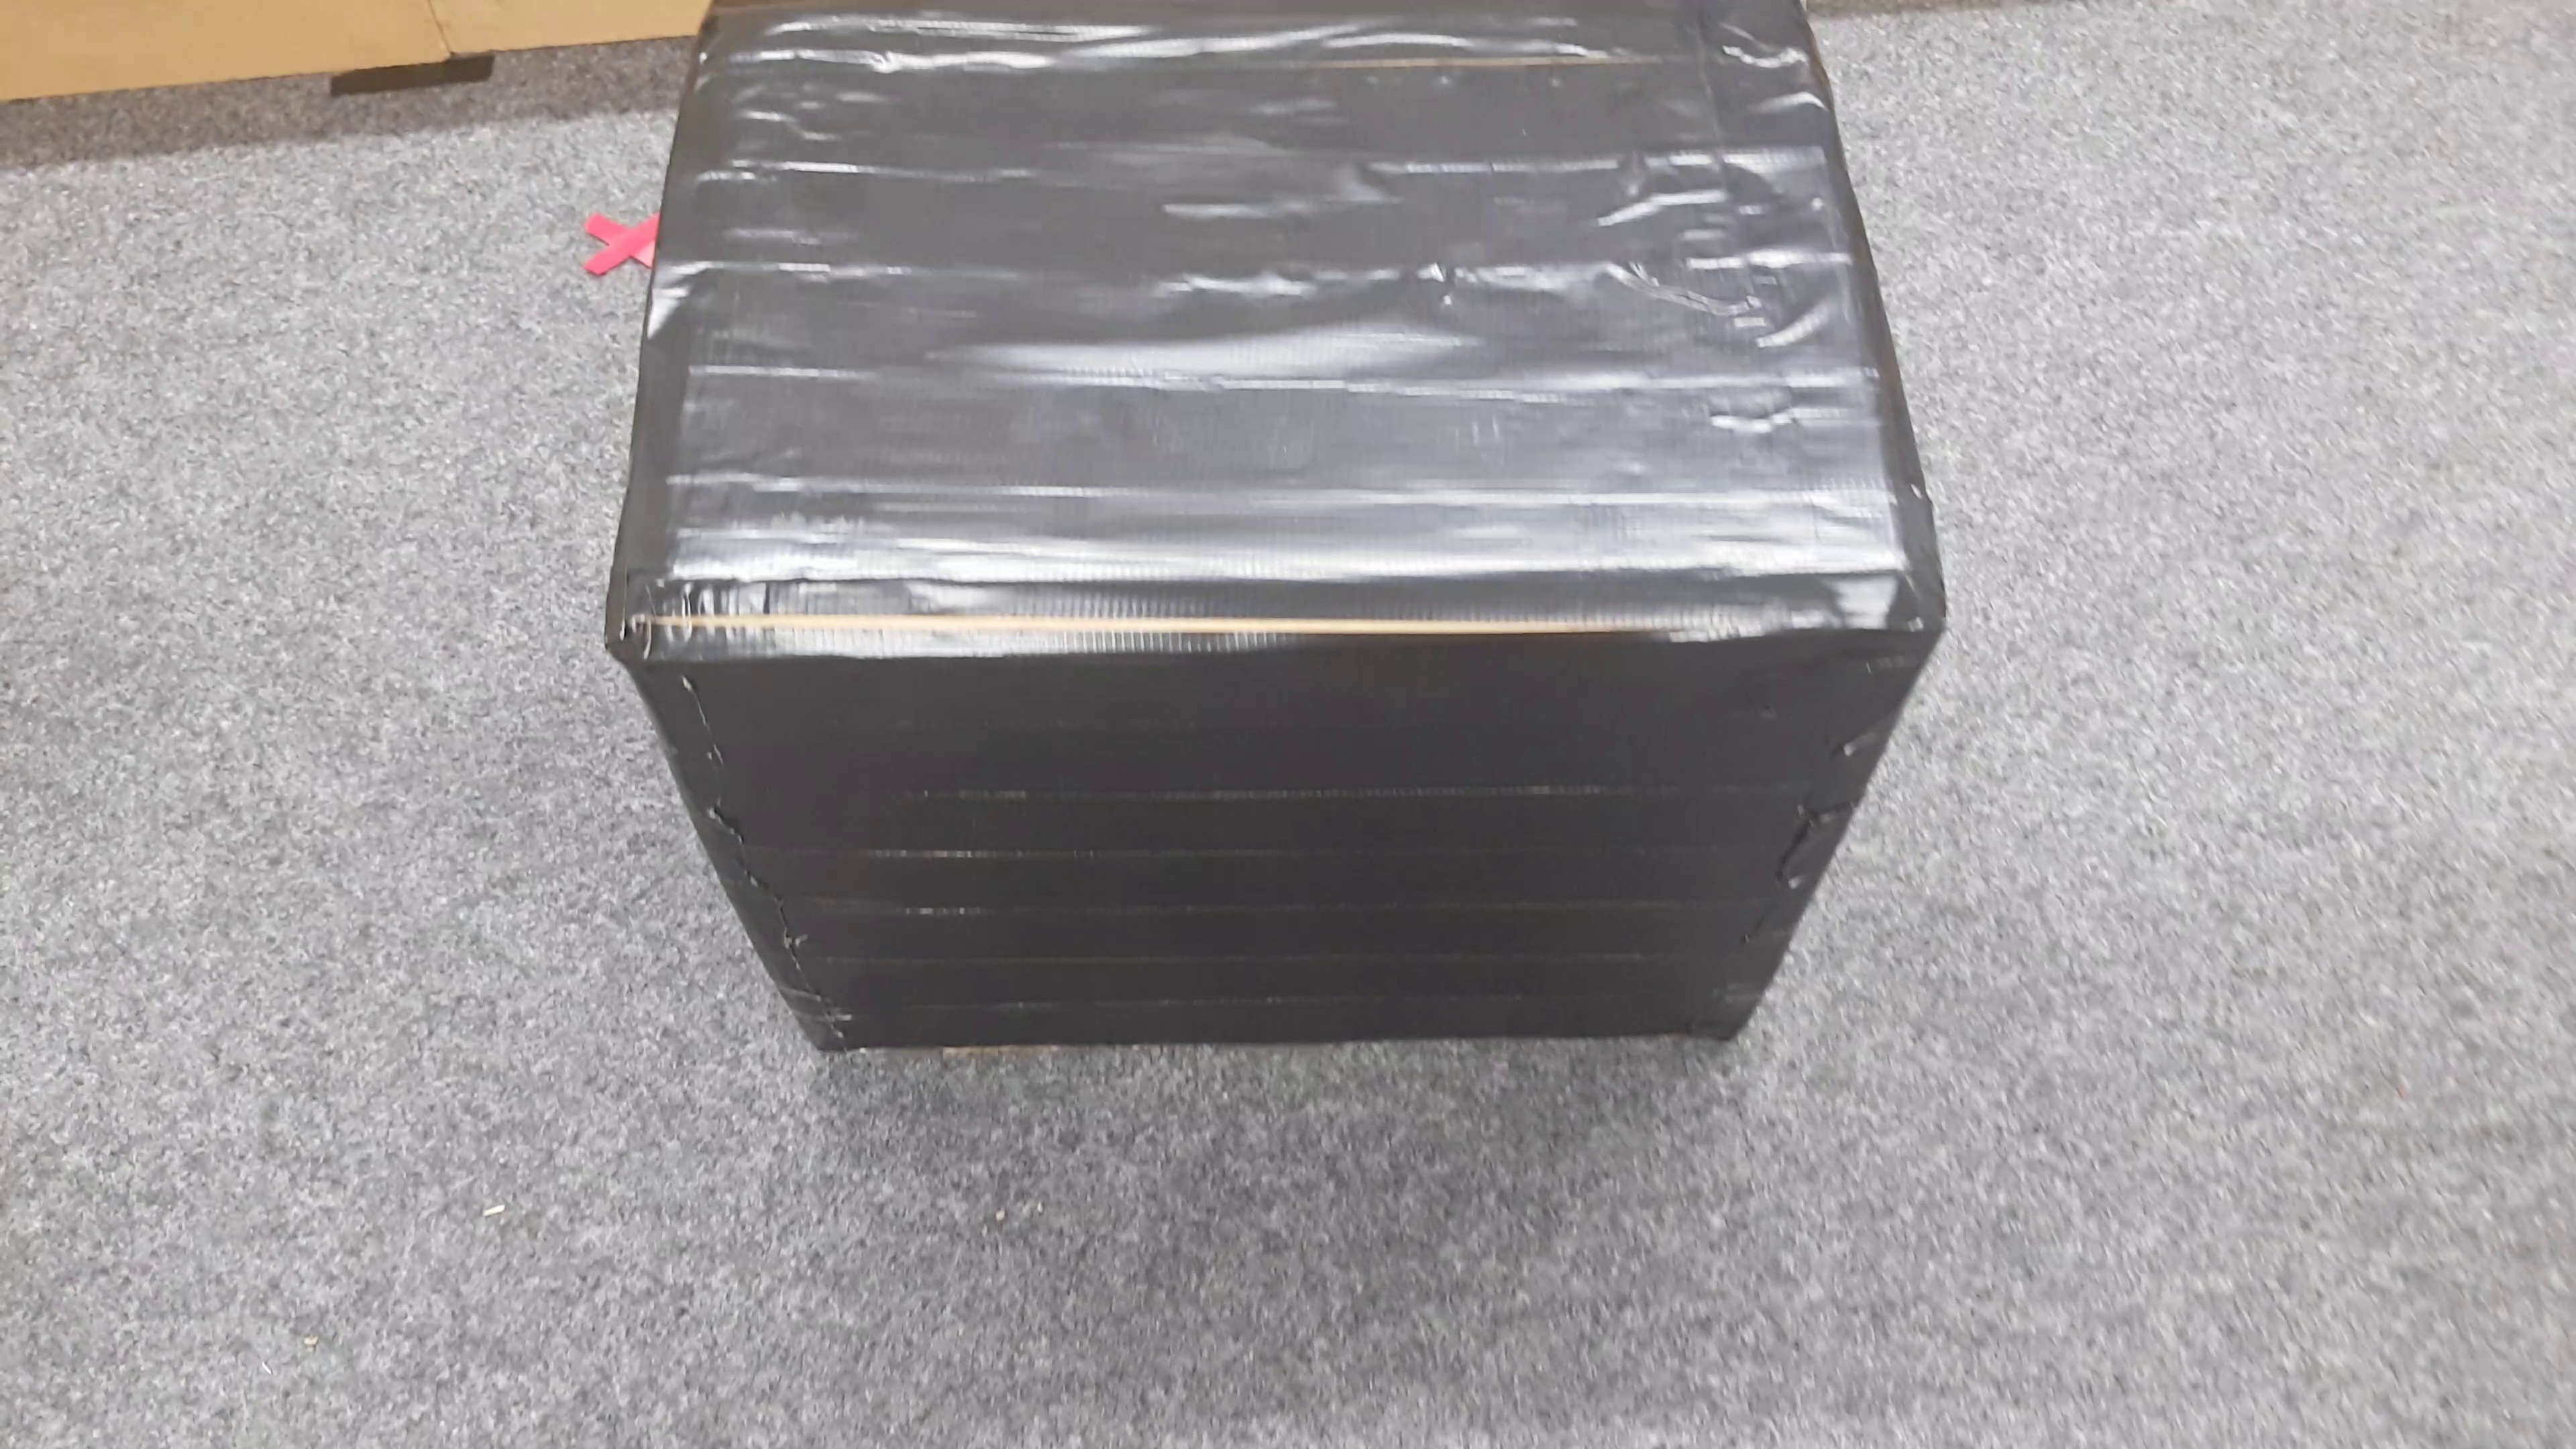push: (612, 4, 1951, 1039)
